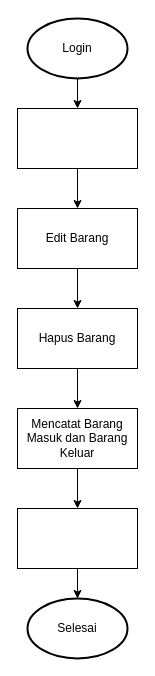
Some shapes in this 155 by 676 pixel diagram are drawn without their labels. Here are the shapes that lost their labels. From the top down, the centre of each, then its label:
the point at 77,138: Tambah Barang
the point at 77,538: Laporan Barang Masuk dan Keluar
